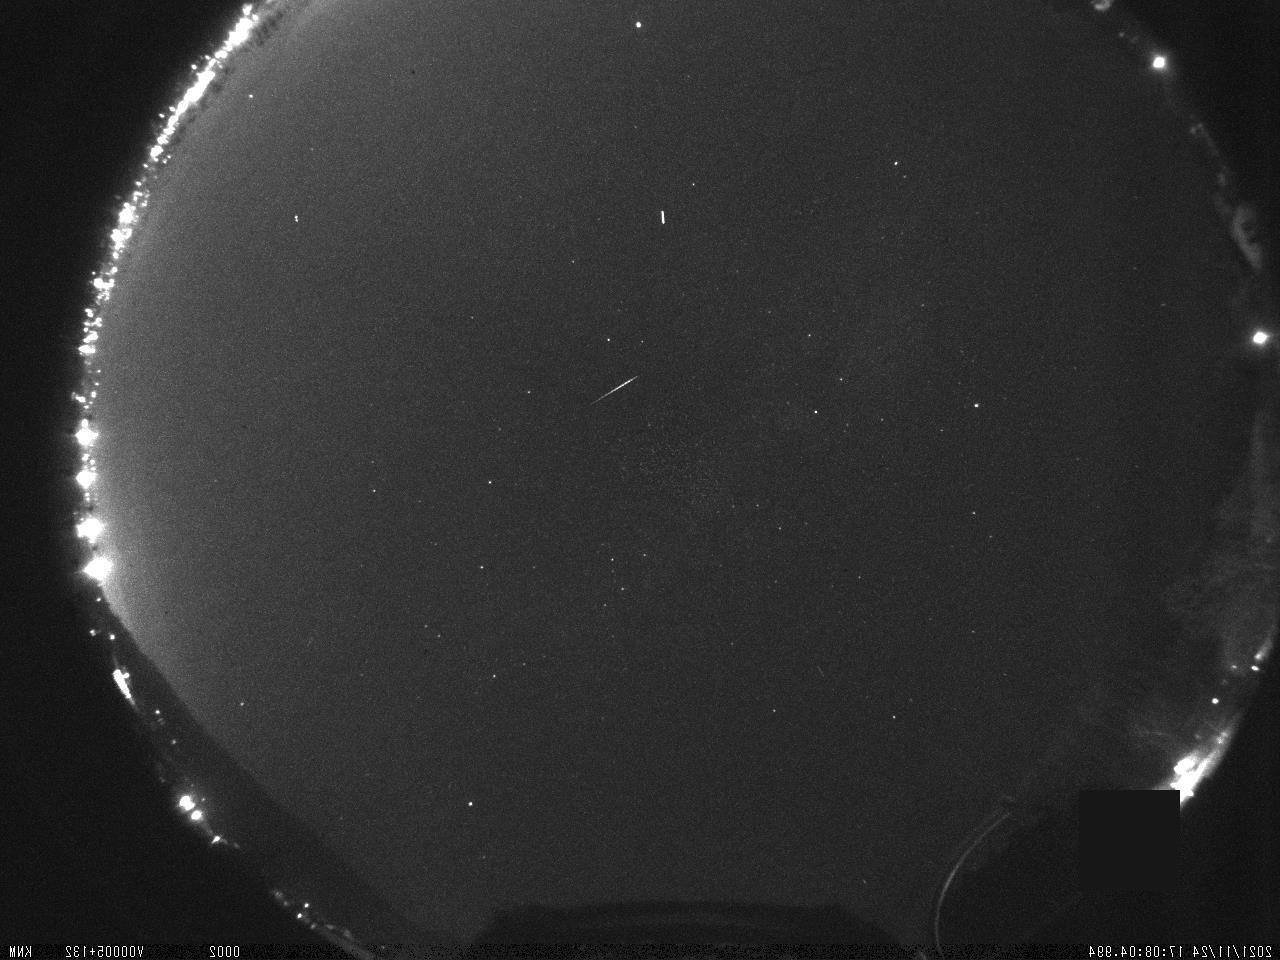meteor: (582, 361, 649, 415)
